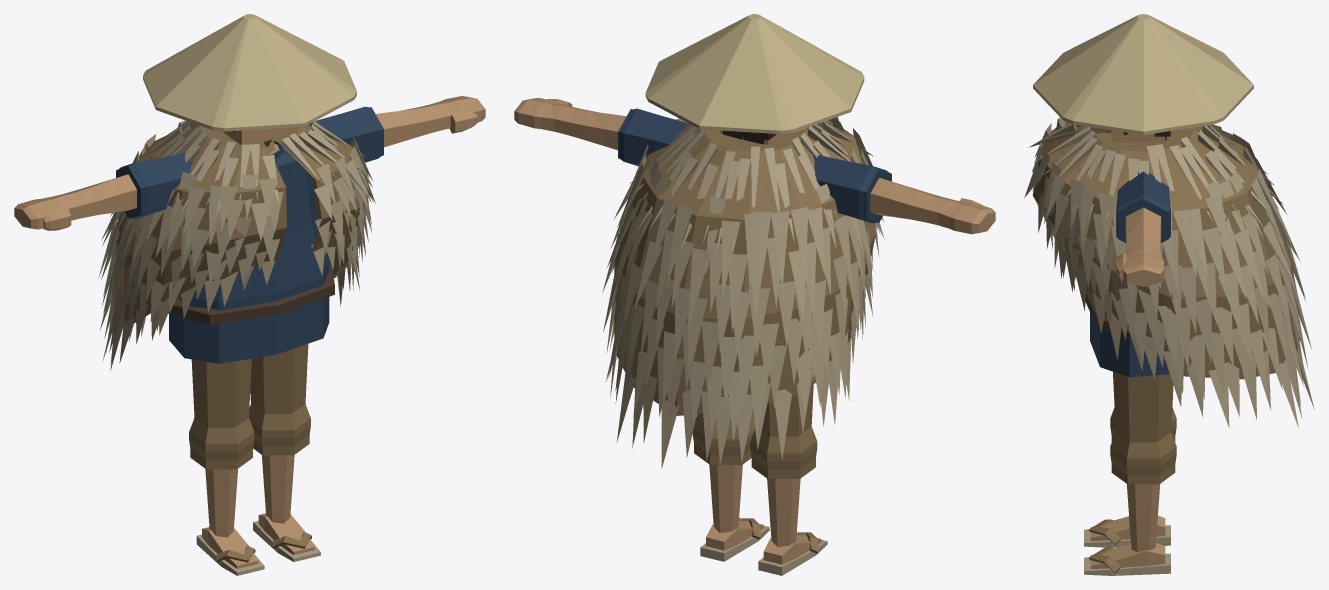
The model's file is farmer-363820.glb.
3 views of the same model, side by side, from view 1: azimuth 30°, elevation 25°; view 2: azimuth 150°, elevation 25°; view 3: azimuth 270°, elevation 25° (orthographic). The views are drawn at different scales.
Visible parts, largest first — view 1: farmer-363820; view 2: farmer-363820; view 3: farmer-363820.
Part boxes in pixels (x1=…): farmer-363820: x1=14, y1=14, x2=485, y2=575; farmer-363820: x1=514, y1=14, x2=995, y2=575; farmer-363820: x1=1024, y1=14, x2=1314, y2=575.
Size of the model in its own units: 1.67 by 1.86 by 0.9109.
